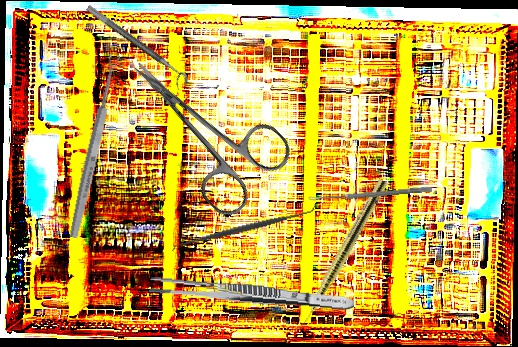Dressing Forceps: (149, 275, 355, 314)
Fixation Ring: (79, 3, 192, 93)
Handpiece: (291, 177, 390, 337)
Iris Scissors: (103, 27, 299, 223)
Spatula Surgical: (169, 201, 320, 255)
Surgical Spoon: (67, 53, 122, 240), (307, 185, 433, 203)
